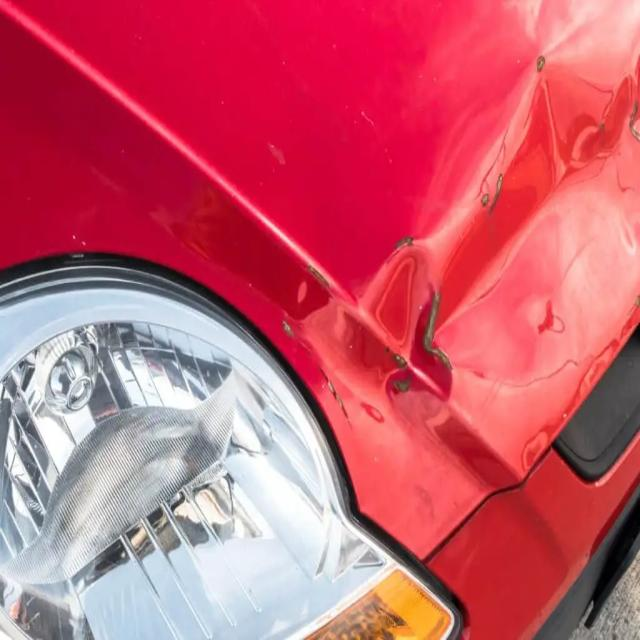dent: (285, 0, 640, 522)
scratch: (422, 278, 457, 373), (318, 361, 354, 432), (384, 342, 414, 398), (303, 262, 341, 299), (385, 234, 418, 267), (627, 102, 640, 146), (490, 174, 504, 212), (535, 52, 546, 75), (478, 192, 491, 206)
